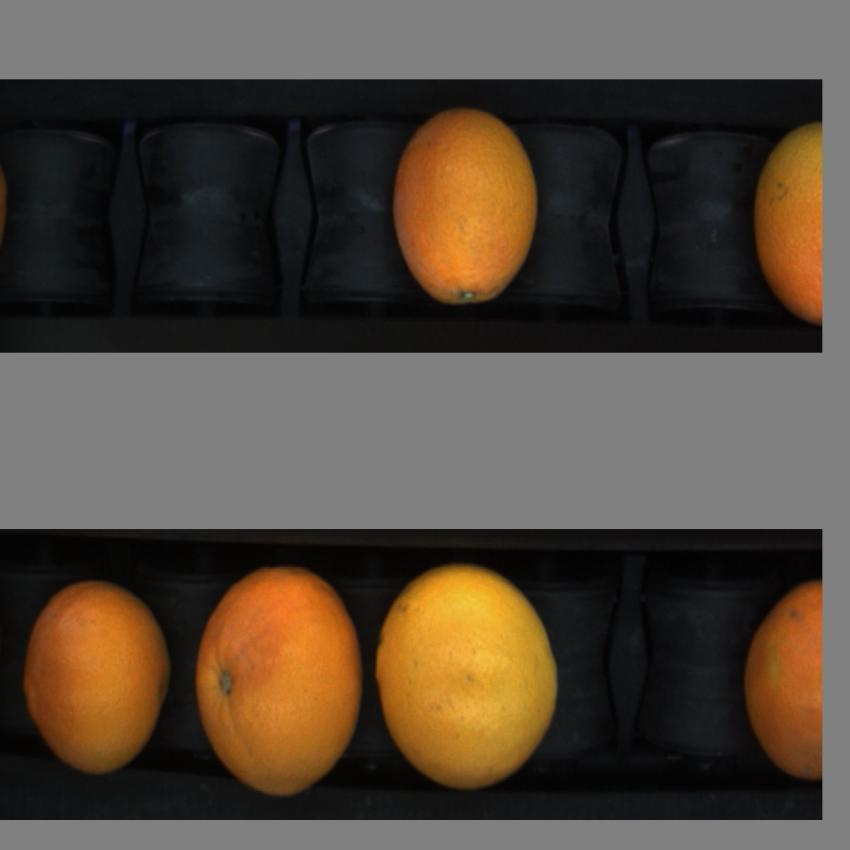Buen estado: (368, 564, 570, 792), (183, 563, 367, 800), (386, 97, 544, 315), (15, 576, 178, 784), (739, 568, 824, 791), (746, 111, 822, 326)
